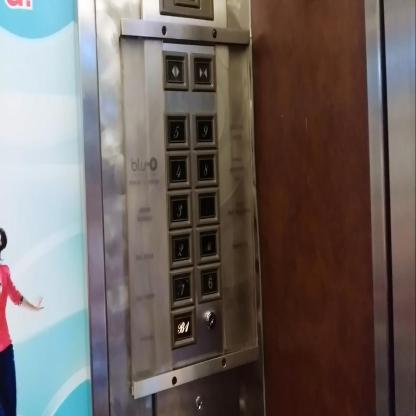1: (168, 266, 194, 310)
2: (168, 227, 194, 271)
3: (166, 189, 192, 231)
4: (165, 150, 191, 191)
5: (163, 111, 191, 152)
6: (194, 262, 223, 302)
8: (191, 149, 219, 187)
9: (190, 109, 219, 149)
B1: (170, 306, 195, 346)
blur: (193, 186, 222, 224), (196, 227, 221, 261)
close: (189, 52, 217, 93)
keyhole: (205, 309, 218, 331), (195, 395, 204, 413)
open: (161, 49, 190, 93)
